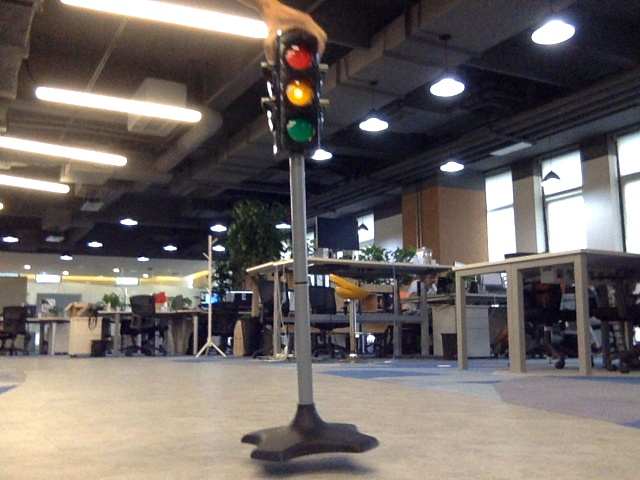yellow: (279, 42, 315, 147)
